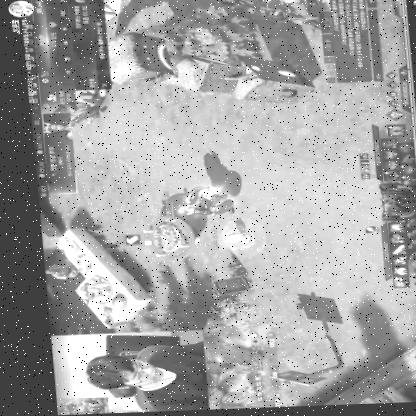streamer: (74, 342, 201, 415)
